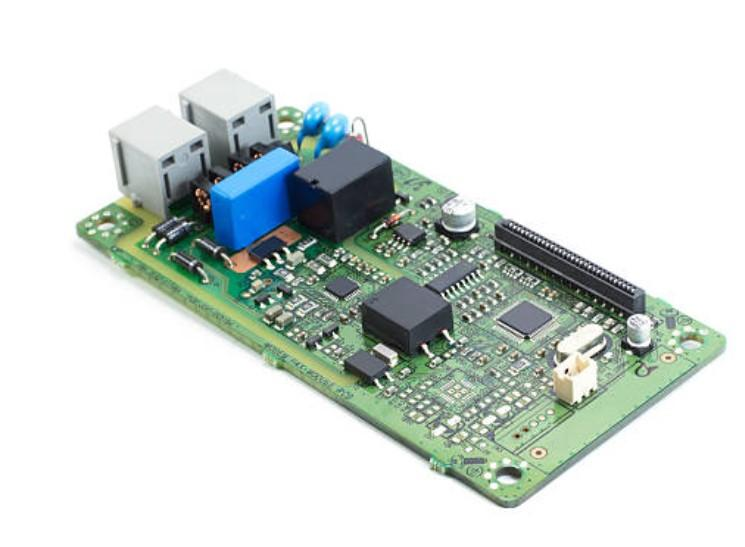Printed Circuit Board PCB: (76, 70, 726, 507)
